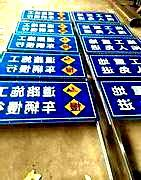sign: (1, 83, 91, 121), (1, 52, 86, 77), (101, 81, 141, 116), (91, 54, 141, 78), (10, 35, 76, 51), (82, 36, 140, 53), (77, 22, 134, 37), (17, 22, 74, 35), (21, 9, 70, 22), (73, 11, 121, 23)
